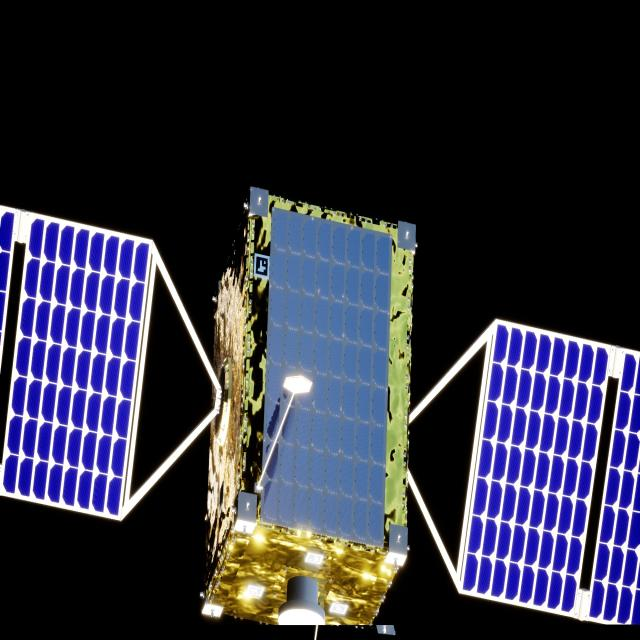medium_debris: (0, 188, 640, 629)
